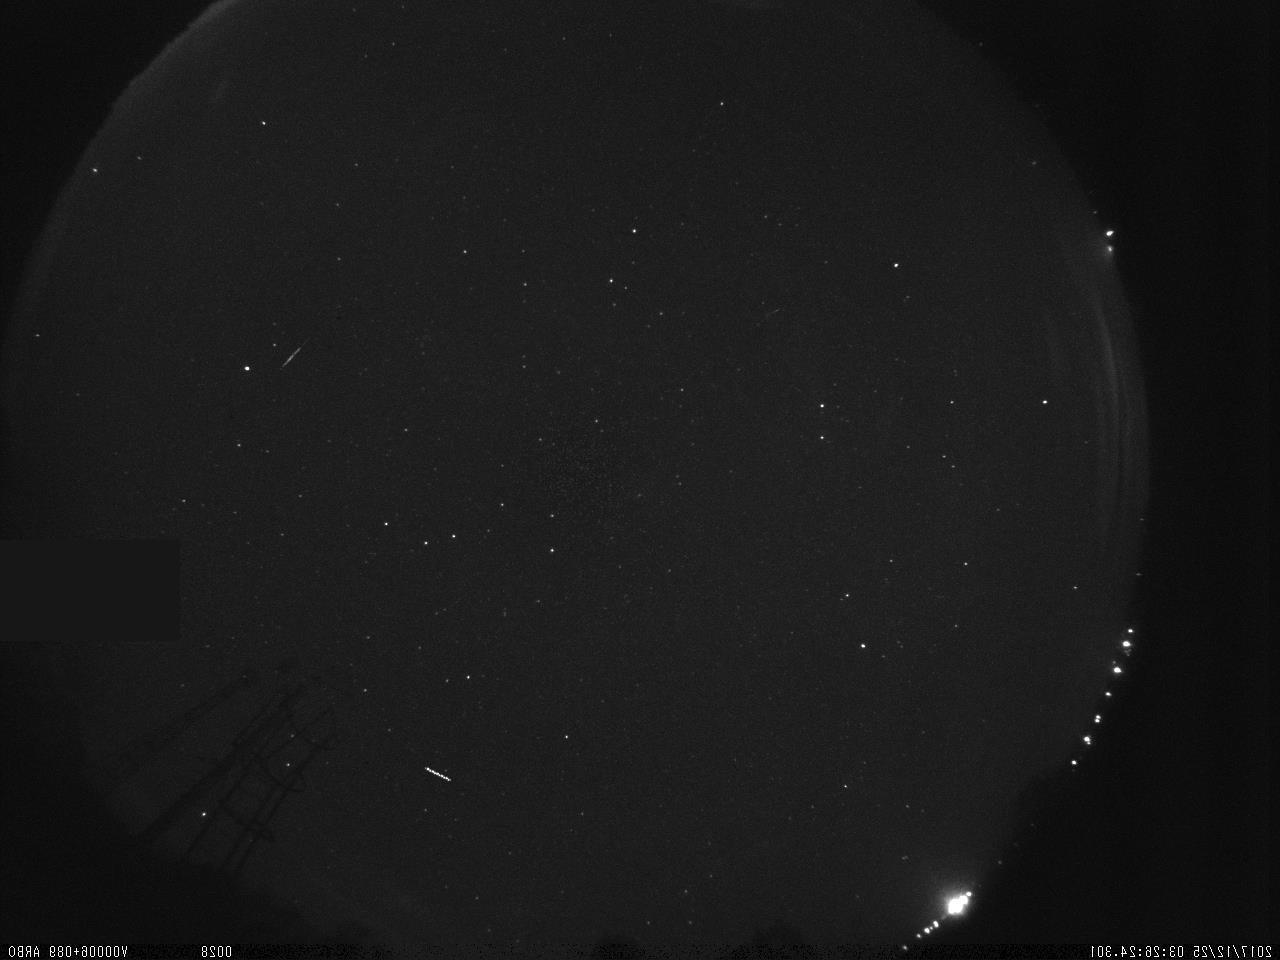meteor: (276, 328, 321, 372)
